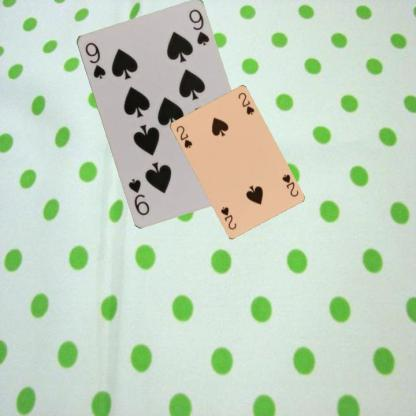2s: (173, 123, 194, 149), (279, 172, 299, 198)
9s: (82, 40, 107, 80)
